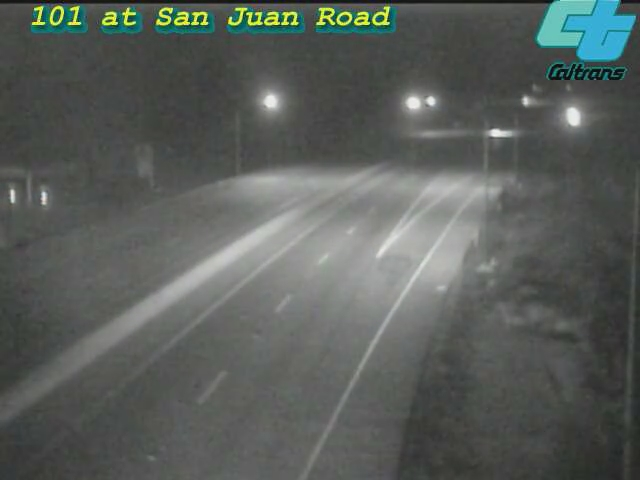vehicle: (473, 107, 523, 157), (544, 92, 594, 142)
